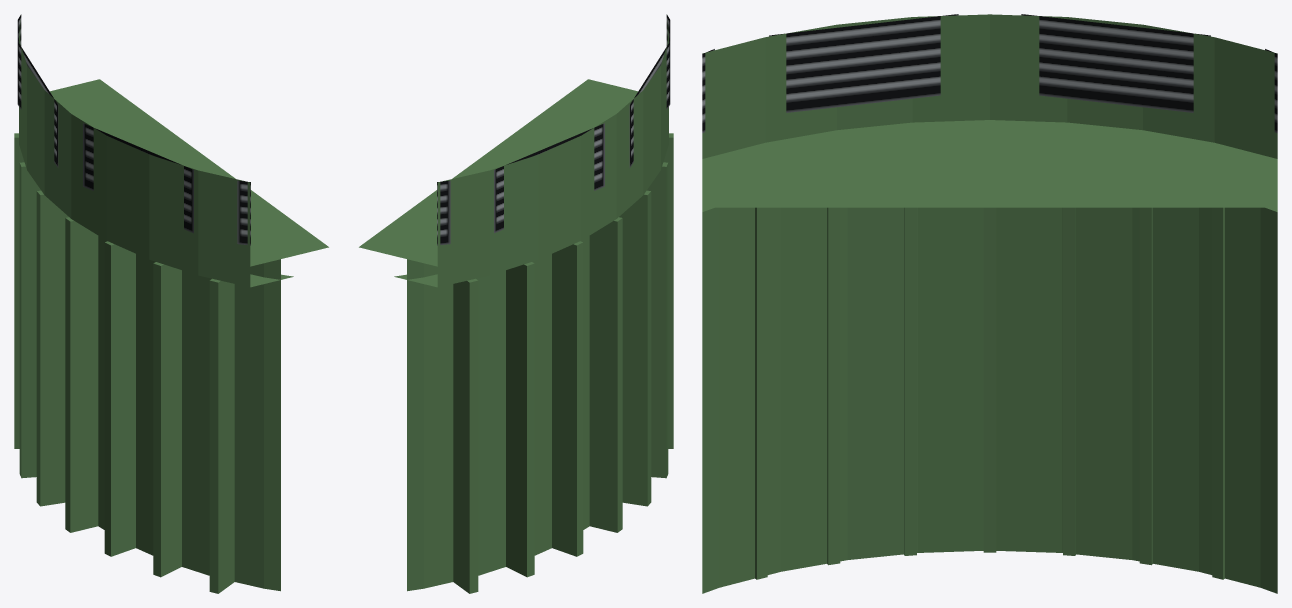
Rendered from cell_51.obj.
3 views of the same model, side by side, from view 1: azimuth 30°, elevation 25°; view 2: azimuth 150°, elevation 25°; view 3: azimuth 270°, elevation 25° (orthographic). The views are drawn at different scales.
Bounding box in the file's own units: 0.3686 × 1 × 1.
